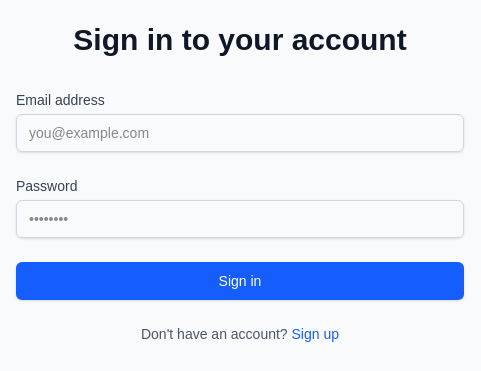
Login Page - Form Validation › should display validation error when password field is empty
Step 1. Type "test@example.com" into the field with placeholder "you@example.com" → (240, 133), box 16,114 -> 464,152
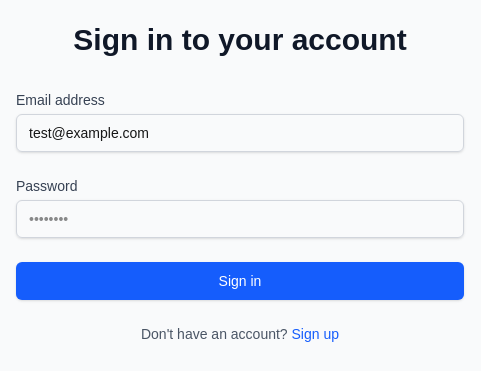
Step 2. Click the button "Sign in" → (240, 281), box 16,262 -> 464,300
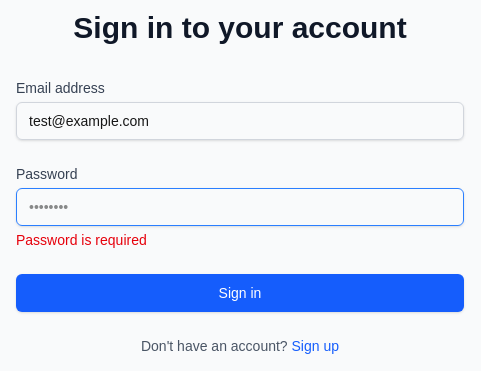
Check: the text "Password is required" is shown, box 16,232 -> 147,248
